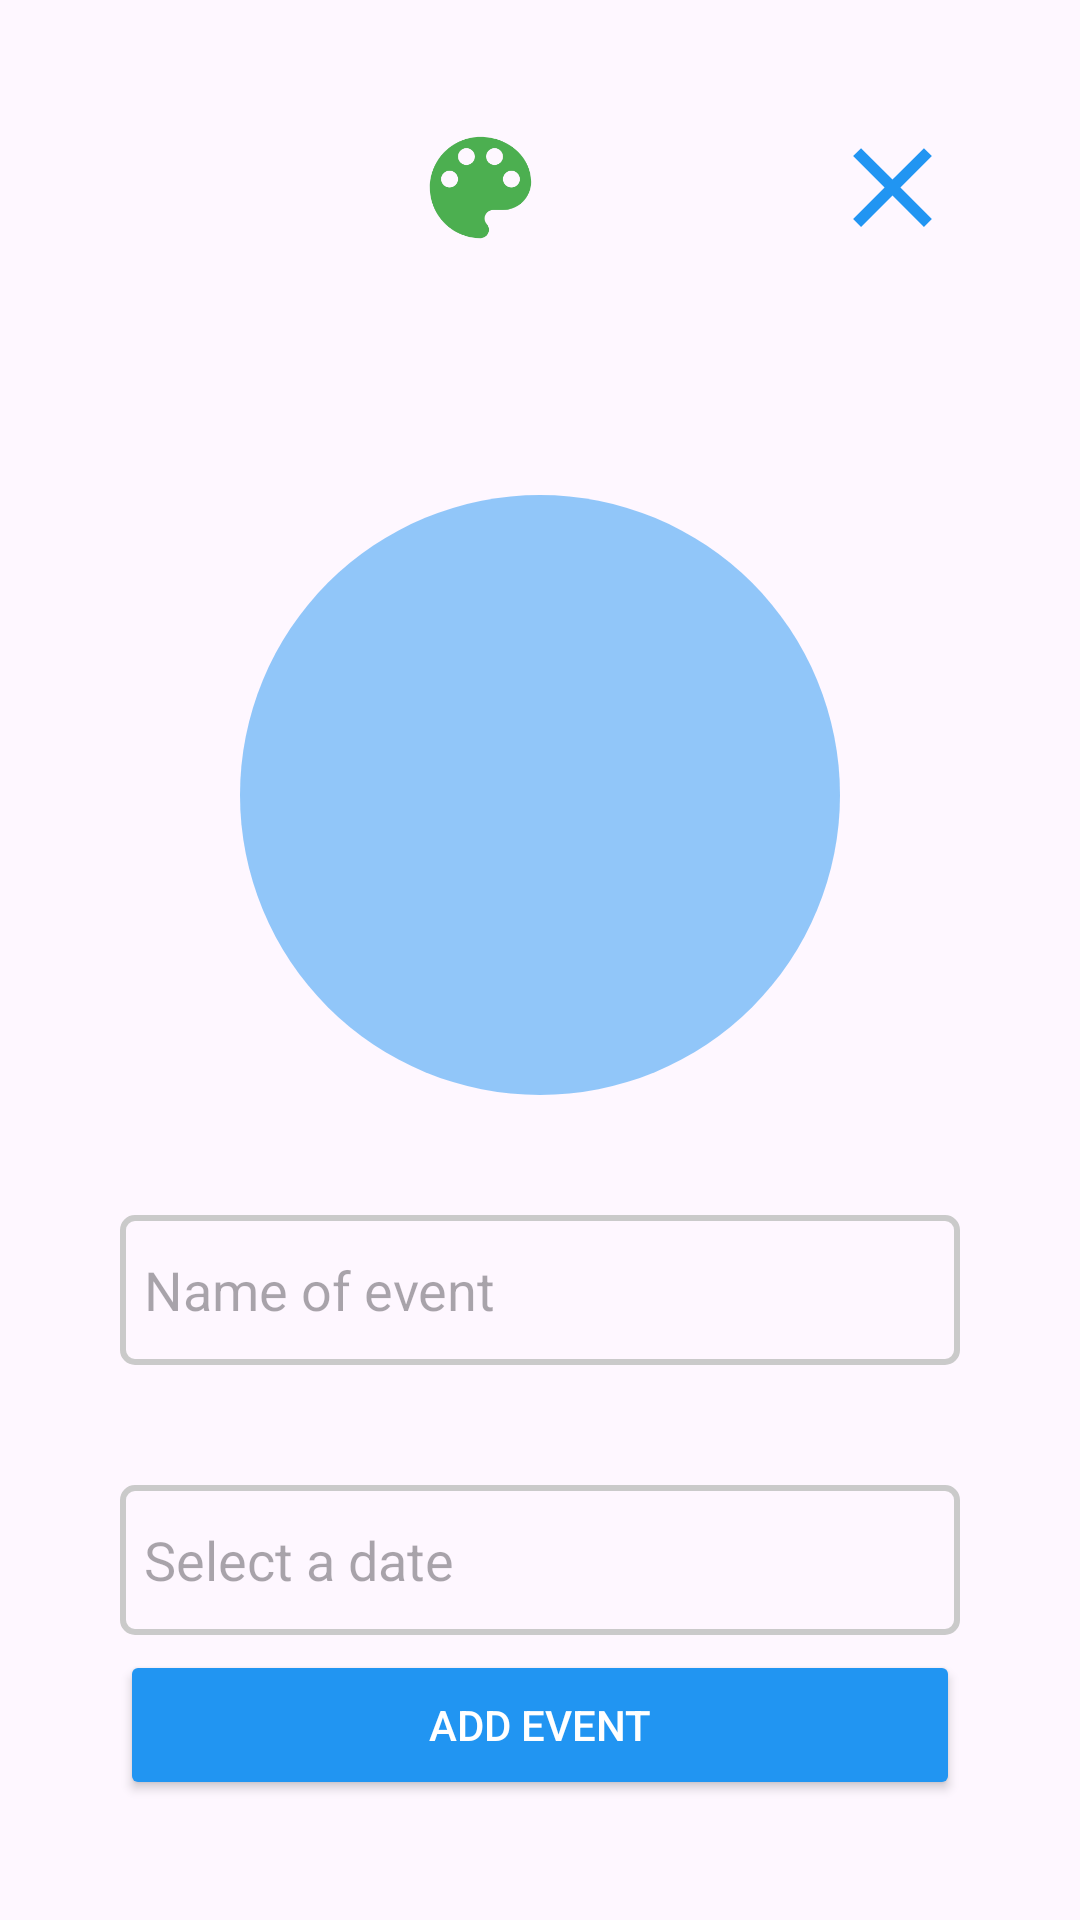

Where to tap for icons on this 1080w x 1920h app screen, as point (x, y):
close: point (892, 187)
